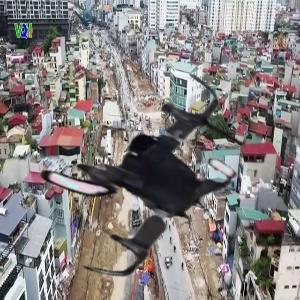drone: (17, 49, 254, 286)
